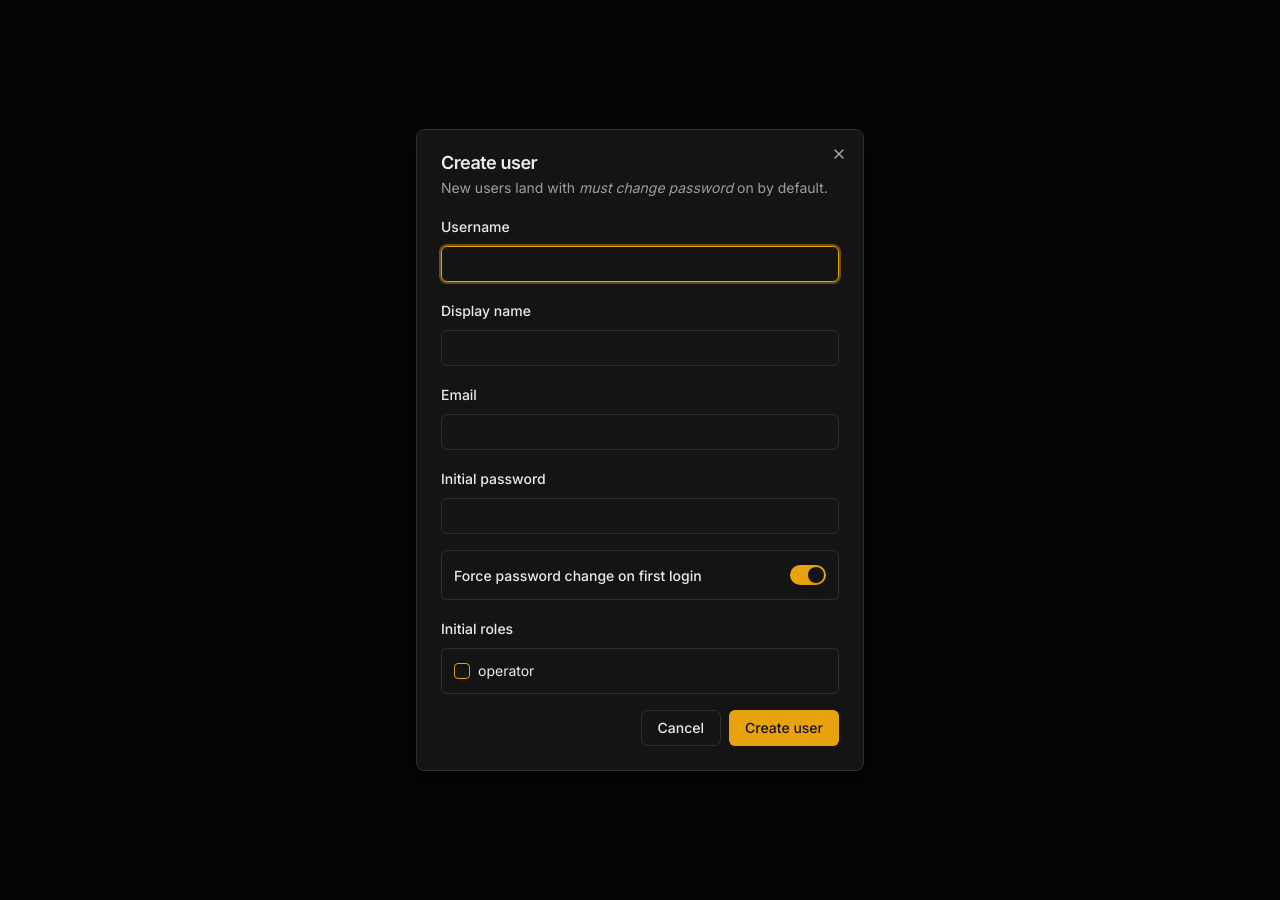
Test: CreateUserDialog › shows 409 on duplicate username
Type "admin" into the field labelled "Username" at point(640, 264), box [441,246,839,282]
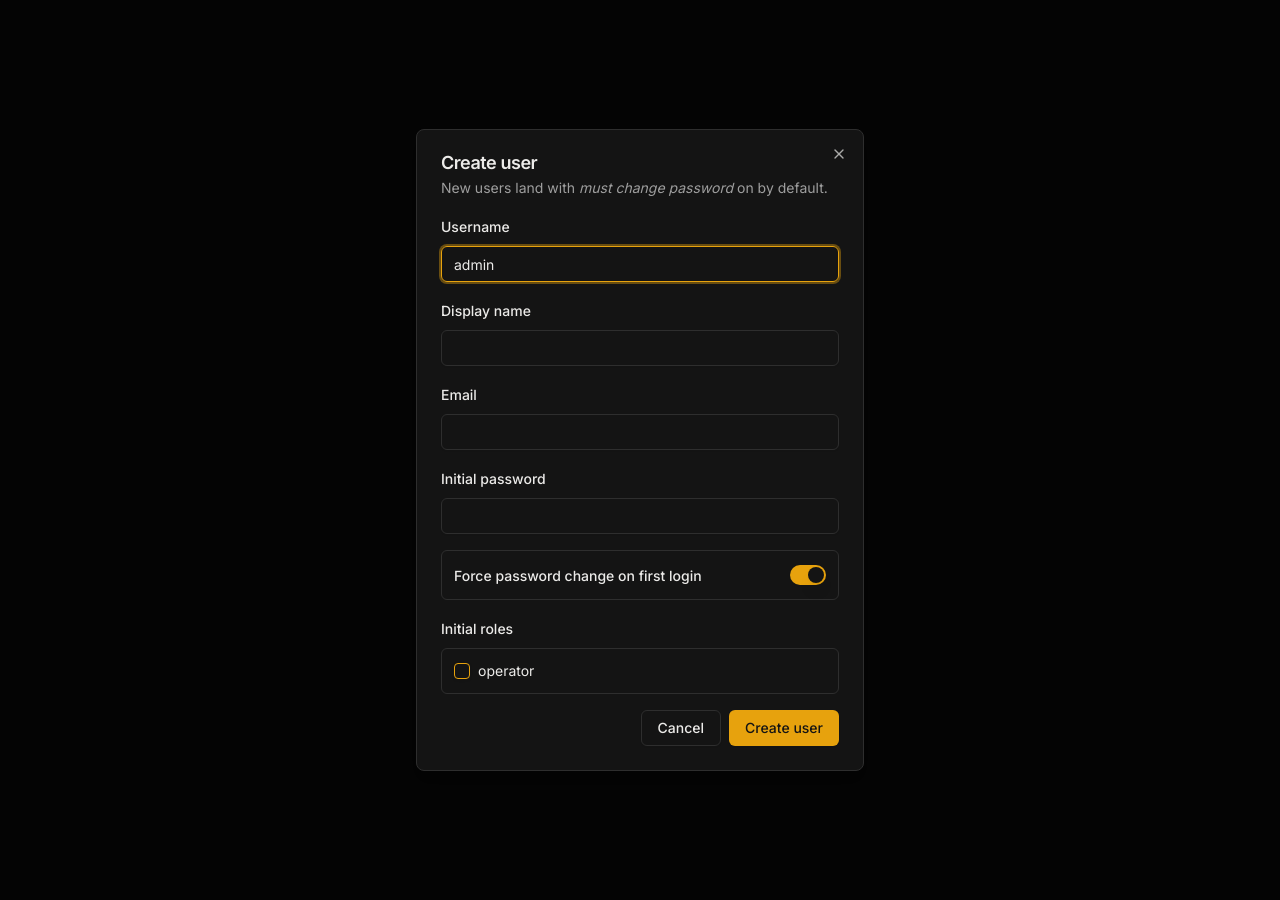
Type "hunter2-strong" into the password field labelled "Initial password" at point(640, 516), box [441,498,839,534]
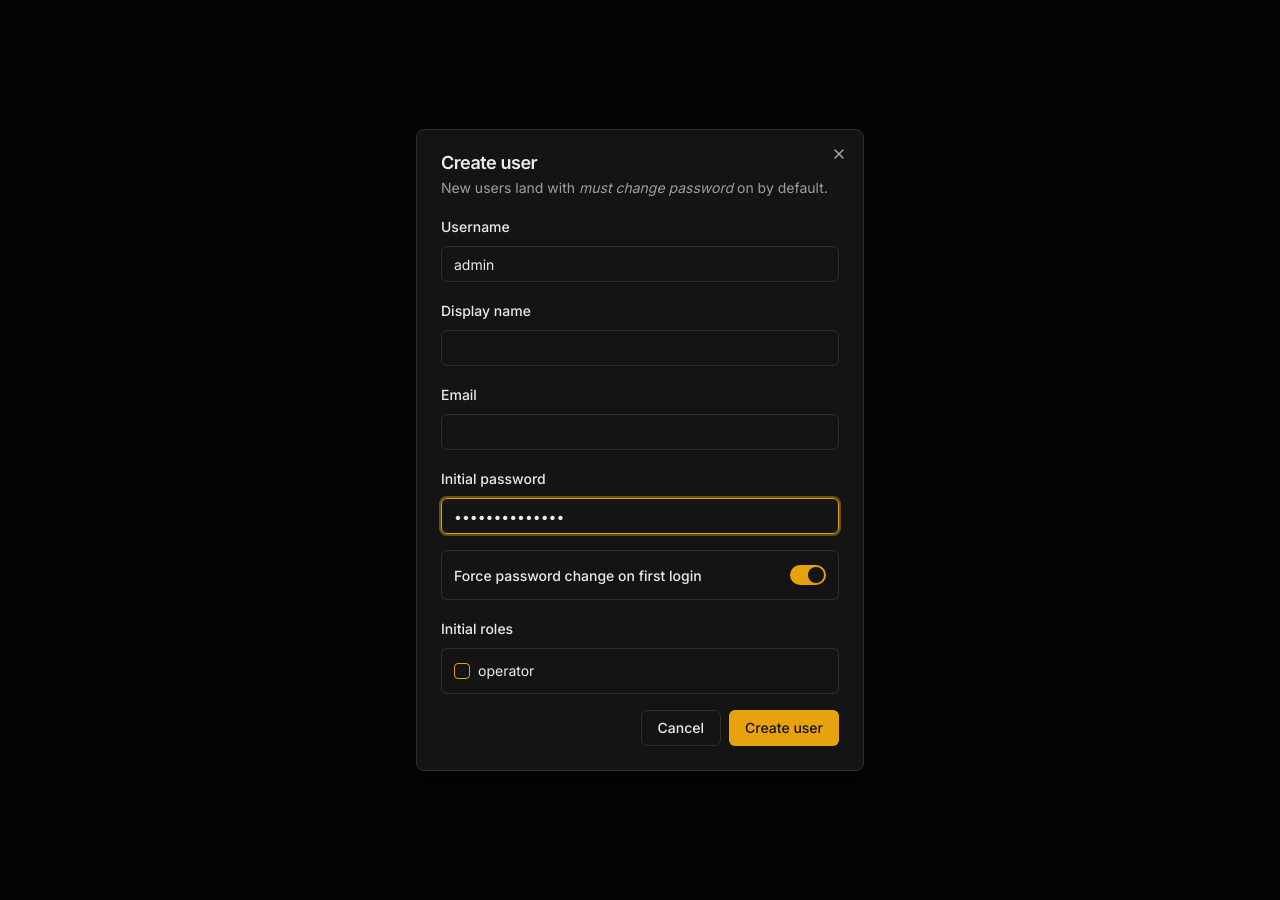
Click the button "Create user" at point(784, 728), box [729,710,839,746]
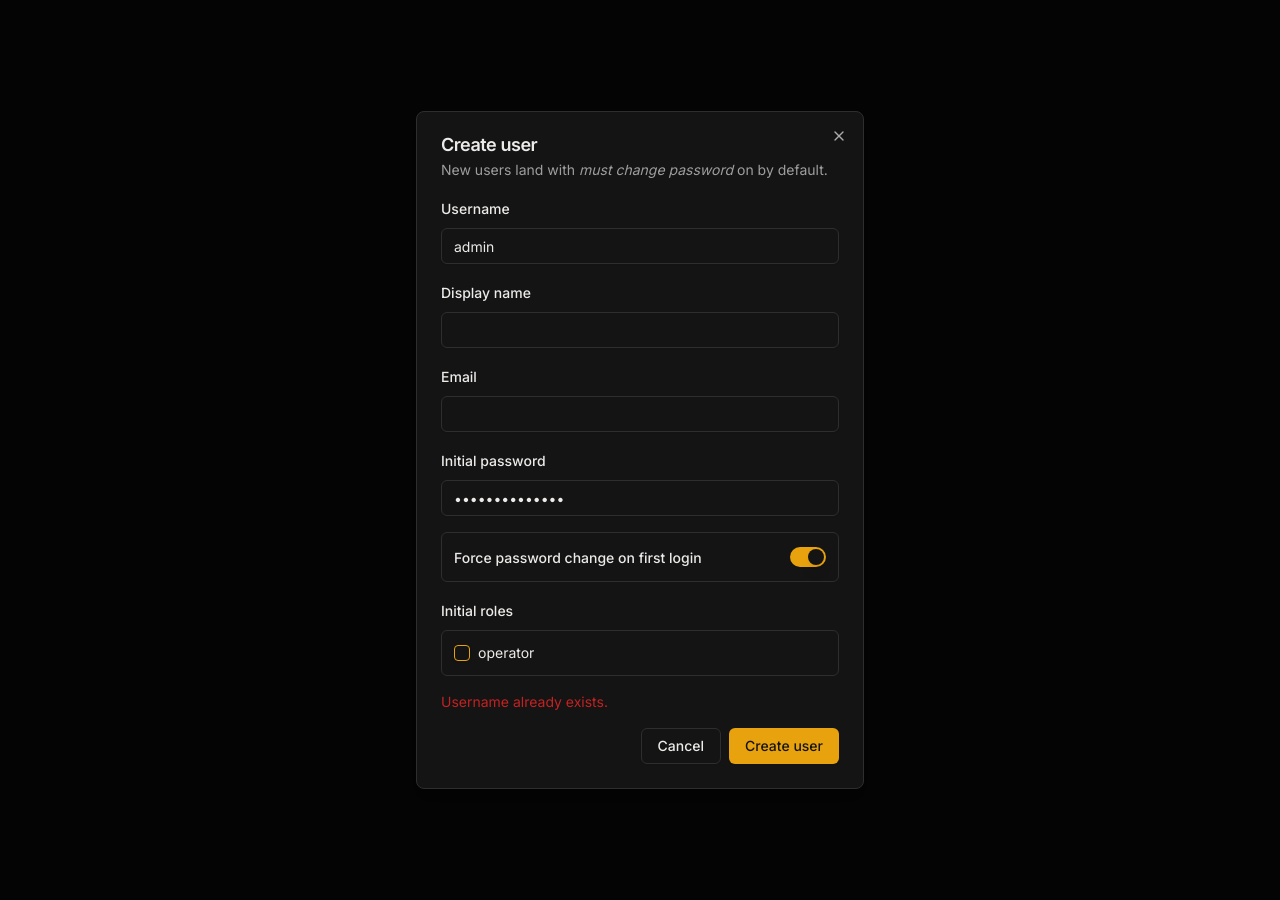
Now the text "Username already exists." is shown, box [441,693,608,710]
